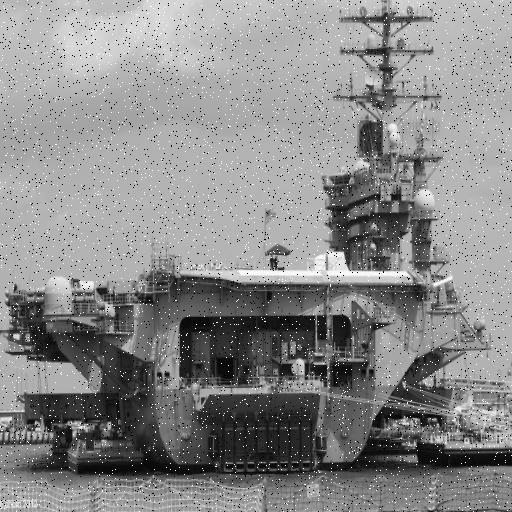Portanaves: (1, 1, 496, 476)
